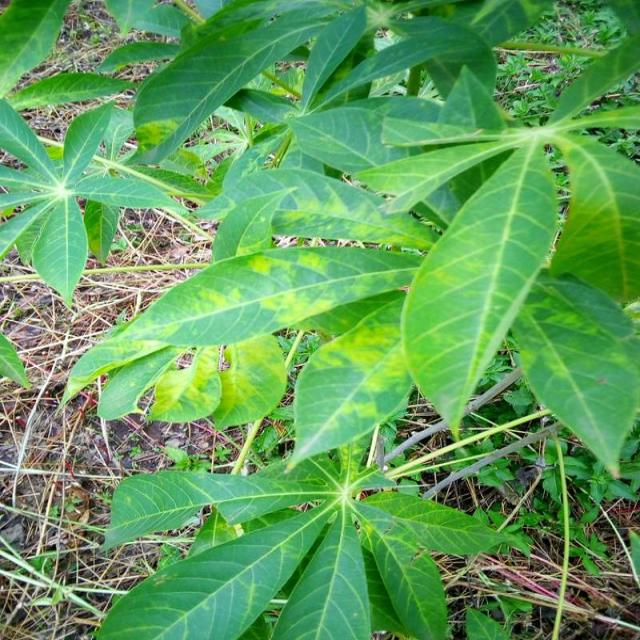cassava leaf: (399, 134, 559, 436), (509, 270, 639, 480), (285, 290, 414, 473)
